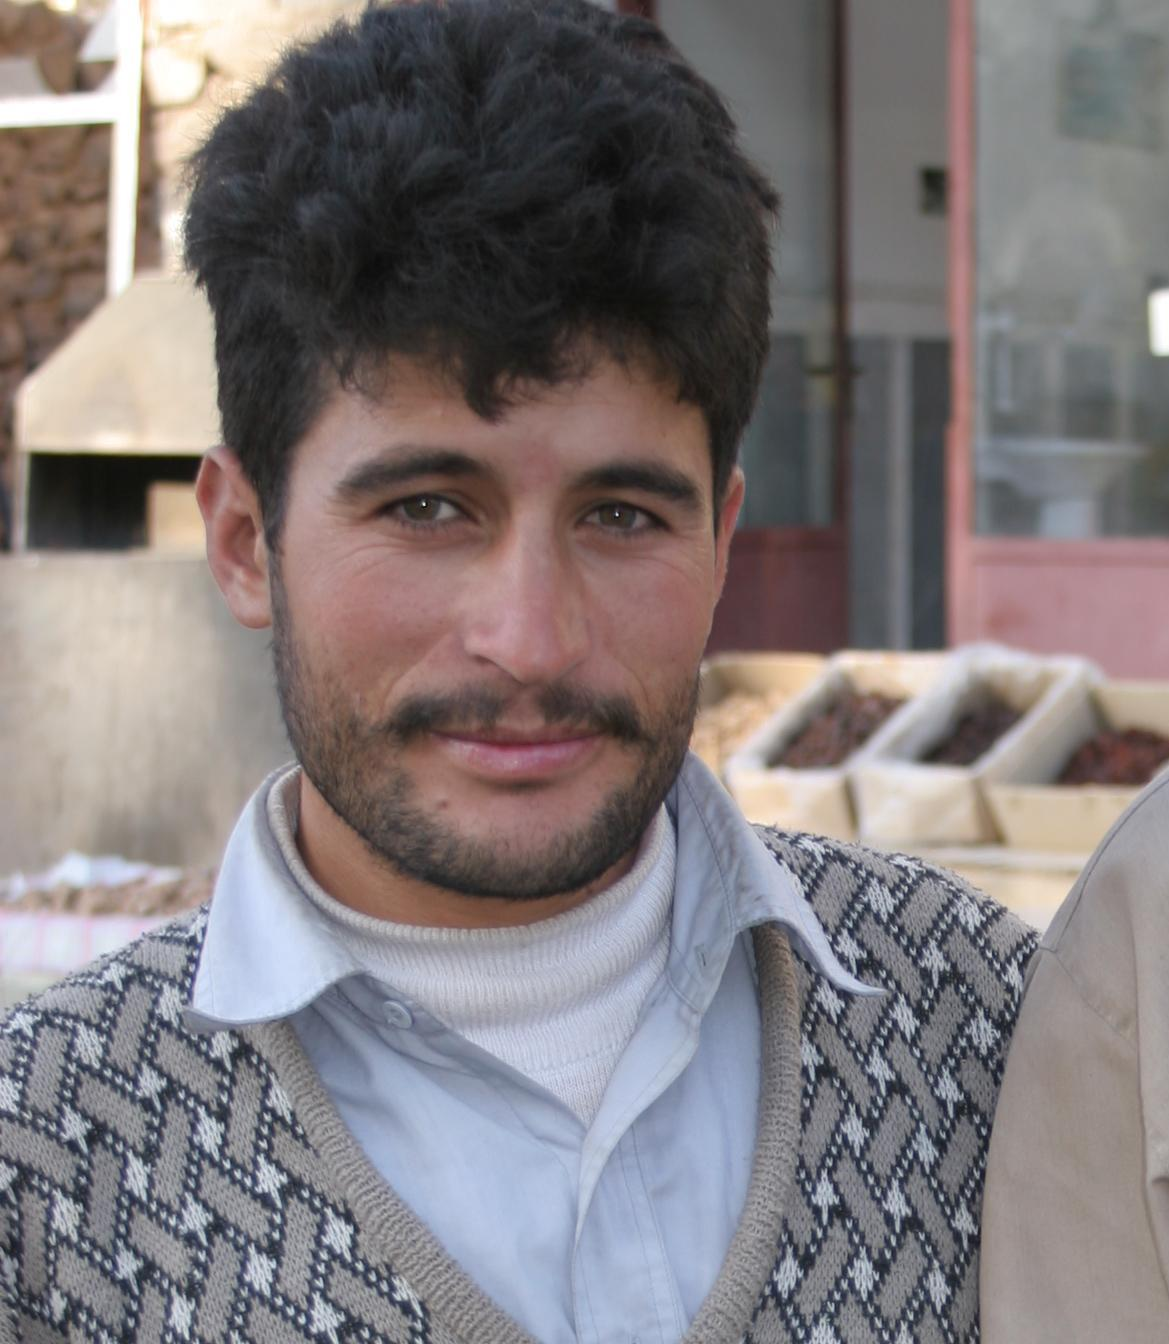Eyebags: (386, 521, 489, 560), (571, 528, 659, 567)
